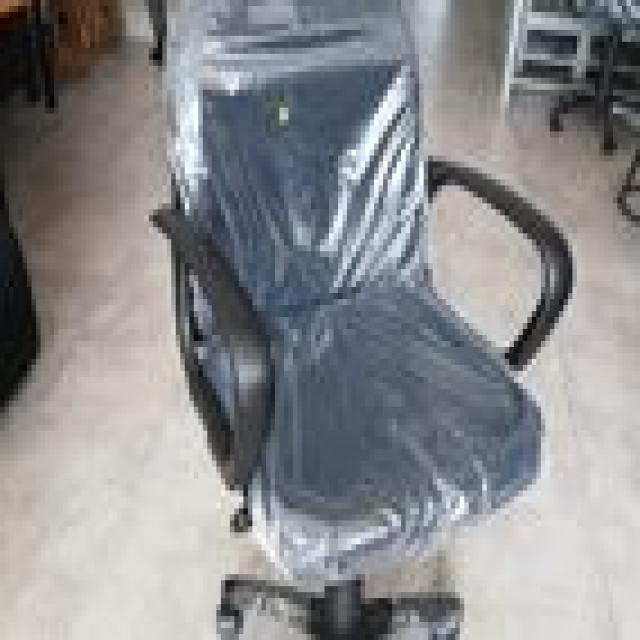others: (126, 6, 595, 640)
